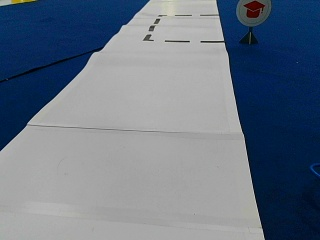school: (236, 1, 270, 27)
